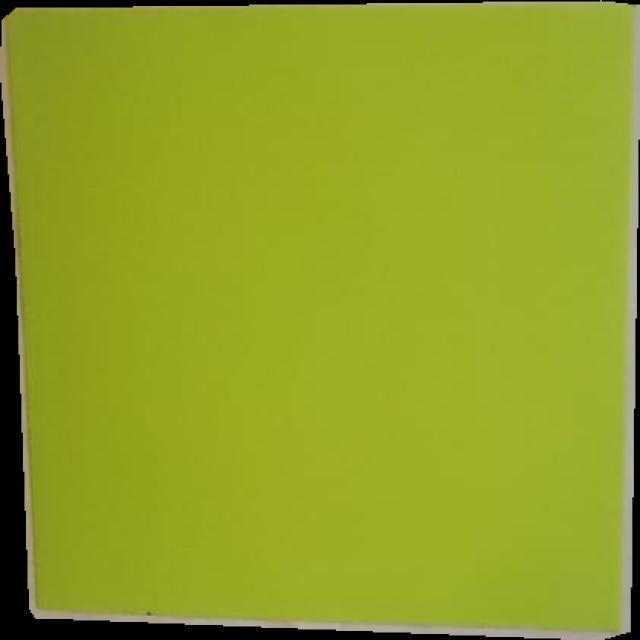Boxes: (0, 0, 640, 640)
